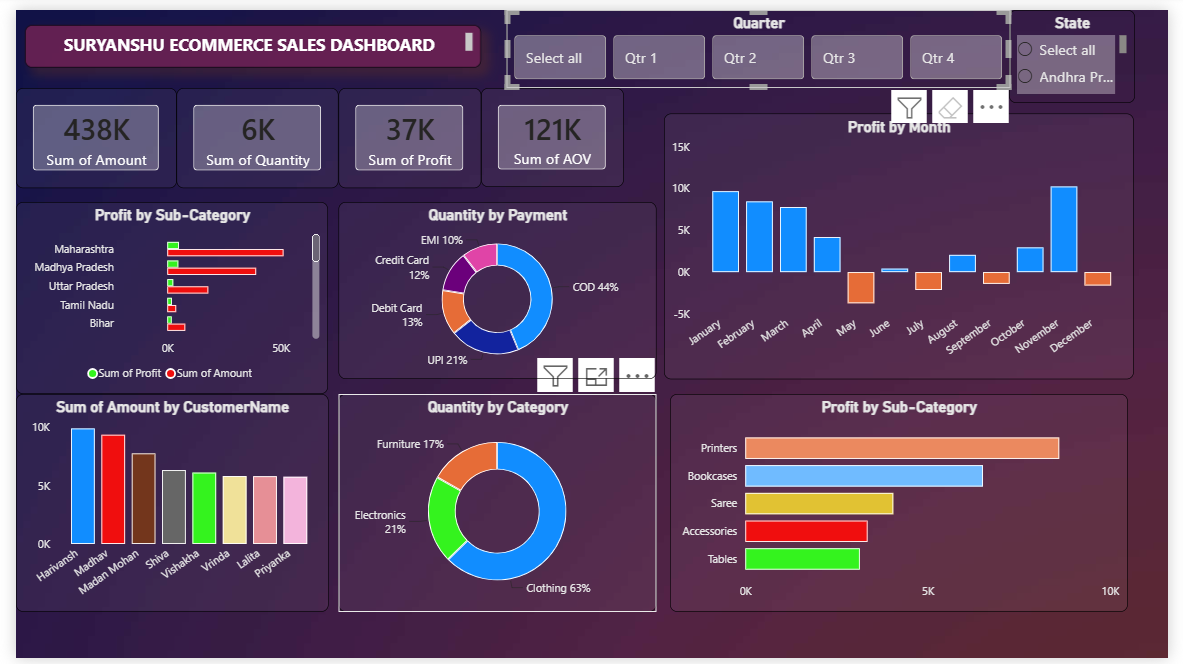

This screenshot's page, from the dashboard's own definition file:
{"tool":"powerbi","page":{"name":"Page 1","canvas":[1280,720],"ordinal":0},"visuals":[{"type":"textbox","box":[9.4,17,506.5,47.2],"z":0},{"type":"columnChart","title":" Profit by Month","fields":{"Category":["Orders.Order Date.Variation.Date Hierarchy.Month"],"Y":["Sum(Details.Profit)"]},"box":[720,115,521.7,295],"z":1000},{"type":"clusteredBarChart","title":"Profit by Sub-Category","fields":{"Category":["Details.Sub-Category"],"Y":["Sum(Details.Profit)"]},"box":[726.7,426.7,508.3,241.7],"z":2000},{"type":"donutChart","title":" Quantity by Category","fields":{"Y":["Sum(Details.Quantity)"],"Series":["Details.Category"]},"box":[358.3,426.7,353.3,241.7],"z":3000},{"type":"donutChart","title":" Quantity by Payment","fields":{"Y":["Sum(Details.Quantity)"],"Category":["Details.PaymentMode"]},"box":[358.3,213.3,353.3,196.7],"z":4000},{"type":"cardVisual","fields":{"Data":["Sum(Details.Amount)"]},"box":[0,87.1,178.6,111.4],"z":4001},{"type":"cardVisual","fields":{"Data":["Sum(Details.Quantity)"]},"box":[178.6,87.1,180,111.4],"z":4002},{"type":"cardVisual","fields":{"Data":["Sum(Details.Profit)"]},"box":[358.6,87.1,158.6,111.4],"z":4003},{"type":"cardVisual","fields":{"Data":["Sum(Details.AOV)"]},"box":[517.1,87.1,158.6,110],"z":4004},{"type":"clusteredBarChart","title":"Profit by Sub-Category","fields":{"Category":["Orders.State"],"Y":["Sum(Details.Profit)","Sum(Details.Amount)"]},"box":[0,213.3,346.7,213.3],"z":4005},{"type":"columnChart","fields":{"Category":["Orders.CustomerName"],"Y":["Sum(Details.Amount)"]},"box":[0,427,347,242],"z":4006},{"type":"advancedSlicerVisual","fields":{"Values":["Orders.Order Date.Variation.Date Hierarchy.Quarter"]},"box":[545,0,560,86.7],"z":4007},{"type":"listSlicer","fields":{"Values":["Orders.State"]},"box":[1103.3,0,140,103.3],"z":4008}]}

Visuals, with their boxes in screenshot pixels (x1, y1, x2, y2), scaled from the page's 1280x720 canvas onto the 1183x664 screenshot:
textbox: (left=9, top=16, right=477, bottom=59)
" Profit by Month" columnChart: (left=665, top=106, right=1148, bottom=378)
"Profit by Sub-Category" clusteredBarChart: (left=672, top=394, right=1141, bottom=616)
" Quantity by Category" donutChart: (left=331, top=394, right=658, bottom=616)
" Quantity by Payment" donutChart: (left=331, top=197, right=658, bottom=378)
cardVisual - Sum(Details.Amount): (left=0, top=80, right=165, bottom=183)
cardVisual - Sum(Details.Quantity): (left=165, top=80, right=331, bottom=183)
cardVisual - Sum(Details.Profit): (left=331, top=80, right=478, bottom=183)
cardVisual - Sum(Details.AOV): (left=478, top=80, right=624, bottom=182)
"Profit by Sub-Category" clusteredBarChart: (left=0, top=197, right=320, bottom=393)
columnChart - Orders.CustomerName x Sum(Details.Amount): (left=0, top=394, right=321, bottom=617)
advancedSlicerVisual - Orders.Order Date.Variation.Date Hierarchy.Quarter: (left=504, top=0, right=1021, bottom=80)
listSlicer - Orders.State: (left=1020, top=0, right=1149, bottom=95)
